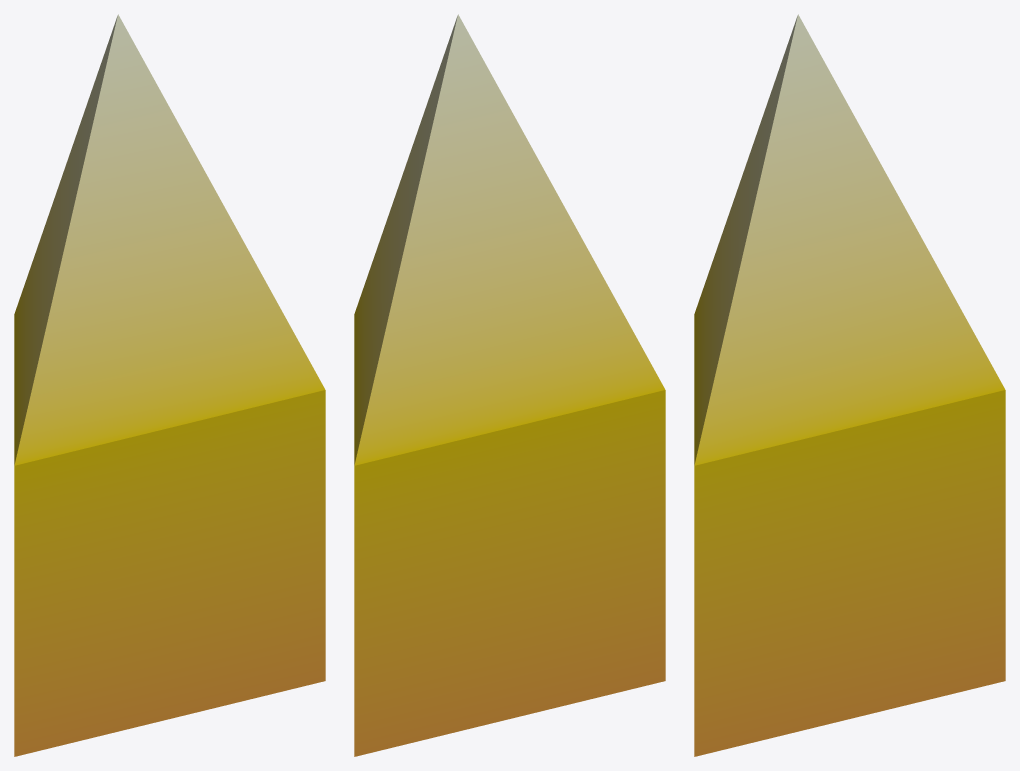
The model's file is bullet1.fbx.
The picture shows the model from 3 angles, left to right: view 1: azimuth 30°, elevation 25°; view 2: azimuth 150°, elevation 25°; view 3: azimuth 270°, elevation 25°; orthographic projection.
Parts seen in each view (by area): view 1: Cone; view 2: Cone; view 3: Cone.
Part boxes in pixels (x1=…): Cone: x1=14, y1=14, x2=325, y2=756; Cone: x1=354, y1=14, x2=665, y2=756; Cone: x1=694, y1=14, x2=1005, y2=756.
Size of the model in its own units: 0.3736 by 0.3236 by 0.7656.
